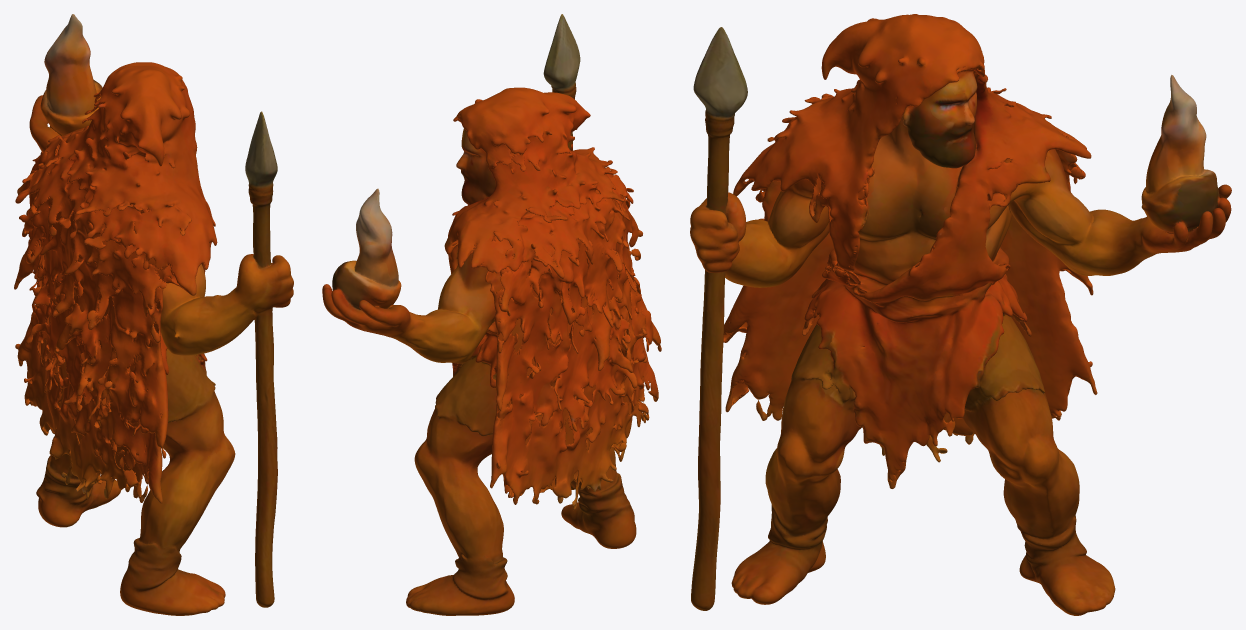
The picture shows the model from 3 angles, left to right: view 1: azimuth 30°, elevation 25°; view 2: azimuth 150°, elevation 25°; view 3: azimuth 270°, elevation 25°; orthographic projection. The views are drawn at different scales.
Visible parts, largest first — view 1: tripo_node_e72786f9-4bf2-47f0-9740-0d5cfb3821cf; view 2: tripo_node_e72786f9-4bf2-47f0-9740-0d5cfb3821cf; view 3: tripo_node_e72786f9-4bf2-47f0-9740-0d5cfb3821cf.
Boxes of the visible parts, x1,y1,x2,y2 form: tripo_node_e72786f9-4bf2-47f0-9740-0d5cfb3821cf: [14, 14, 293, 615]; tripo_node_e72786f9-4bf2-47f0-9740-0d5cfb3821cf: [322, 14, 661, 615]; tripo_node_e72786f9-4bf2-47f0-9740-0d5cfb3821cf: [690, 14, 1231, 615].
Size of the model in its own units: 0.3619 by 1 by 0.8277.
Materials: 1 (1 with a texture image).
